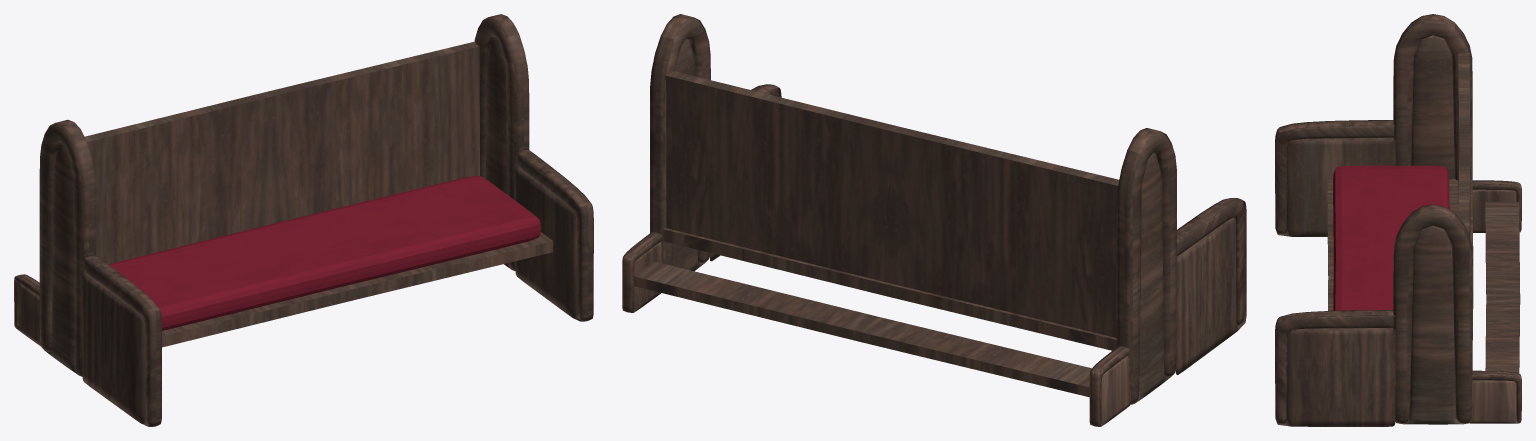
The model's file is uploads-files-5694908-ChurchBench1.fbx.
3 renders of one model, left to right at view 1: azimuth 30°, elevation 25°; view 2: azimuth 150°, elevation 25°; view 3: azimuth 270°, elevation 25°, orthographic. The views are drawn at different scales.
Parts seen in each view (by area): view 1: Bench; view 2: Bench; view 3: Bench.
Boxes of the visible parts, <box> form: Bench: <box>14,14,593,426</box>; Bench: <box>622,14,1246,426</box>; Bench: <box>1275,14,1521,426</box>.
Bounding box in the file's own units: 509 × 261 × 269.
Materials: 2 (2 with a texture image).
